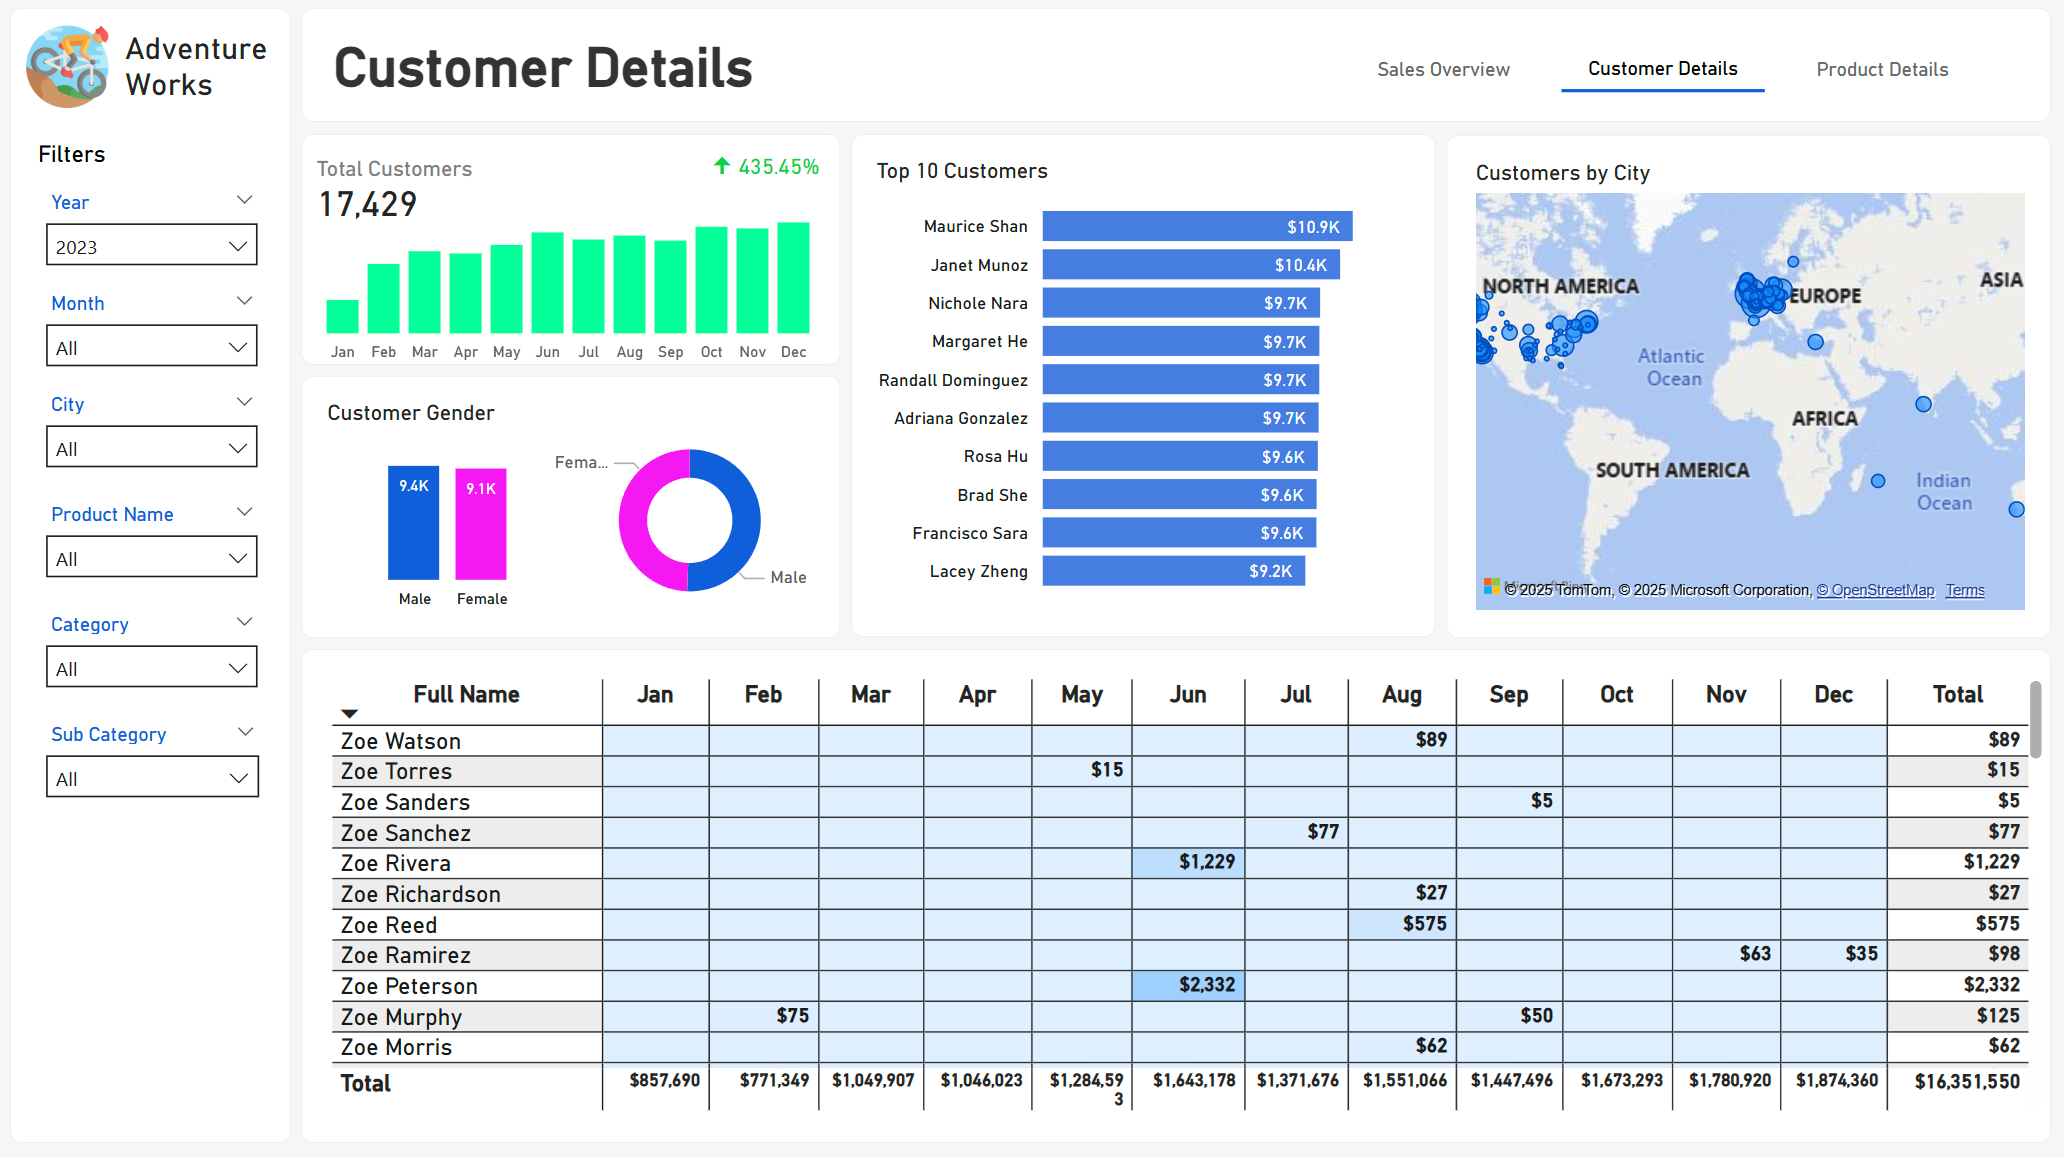

This screenshot's page, from the dashboard's own definition file:
{"tool":"powerbi","page":{"name":"Customer Details ","canvas":[1280,720],"ordinal":1},"visuals":[{"type":"BBED0A4D4D8D44CE93CF2DAFADEE466C","fields":{"actual":["FACT_InternetSales_CSV.Sales"],"target1":["FACT_Budget.Budget Amount"],"target2":["FACT_Budget.Sales - Budget"]},"box":[554.9,231.2,12.3,12.3],"z":0},{"type":"donutChart","title":"Customer Gender","fields":{"Y":["CountNonNull(DIM_Customers_CSV.Gender)"],"Category":["DIM_Customers_CSV.Gender"]},"box":[338.4,259.4,179.4,130.6],"z":2000},{"type":"pivotTable","title":"Customer Sales per Month","fields":{"Rows":["DIM_Customers_CSV.FullName"],"Columns":["DIM_Calendar_CSV.MonthShort"],"Values":["Sum(FACT_InternetSales_CSV.SalesAmount)"]},"box":[194.5,411.3,1072.1,294.9],"z":3000},{"type":"cardVisual","fields":{"Data":["Count(FACT_InternetSales_CSV.CustomerKey)"]},"box":[187.7,77.4,150.3,84.5],"z":4000},{"type":"columnChart","fields":{"Category":["DIM_Calendar_CSV.MonthShort"],"Y":["CountNonNull(FACT_InternetSales_CSV.CustomerKey)"]},"box":[187.7,120.1,330,113.9],"z":12000},{"type":"columnChart","title":"Customer Gender","fields":{"Category":["DIM_Customers_CSV.Gender"],"Y":["CountNonNull(DIM_Customers_CSV.CustomerKey)"]},"box":[194.5,241.6,165.2,150.1],"z":13000},{"type":"pageNavigator","box":[832.3,26.6,400.6,33.8],"z":14000},{"type":"textbox","box":[202.8,19.6,450.1,48],"z":15000},{"type":"map","title":"Customers by City","fields":{"Category":["DIM_Customers_CSV.CustomerCity"],"Size":["CountNonNull(DIM_Customers_CSV.CustomerKey)"]},"box":[910,102.3,350.5,282.9],"z":16000},{"type":"barChart","title":"Top 10 Customers","fields":{"Category":["DIM_Customers_CSV.FullName"],"Y":["Sum(FACT_InternetSales_CSV.SalesAmount)"]},"box":[534.6,91.6,347.8,293.5],"z":17000},{"type":"cardVisual","fields":{"Data":["Key Measures.Diff Last Year Customers %"]},"box":[312.2,86.3,196.6,33.8],"z":17001},{"type":"slicer","fields":{"Values":["DIM_Customers_CSV.CustomerCity"]},"box":[19,241.1,151,60],"z":17002},{"type":"slicer","fields":{"Values":["DIM_Products_CSV.SubCategory"]},"box":[19,445.7,151.5,60],"z":17003},{"type":"slicer","fields":{"Values":["DIM_Products_CSV.ProductCategory"]},"box":[19,377.5,151,60],"z":17004},{"type":"slicer","fields":{"Values":["DIM_Products_CSV.ProductName"]},"box":[19,309.3,151,60],"z":17005},{"type":"slicer","fields":{"Values":["DIM_Calendar_CSV.MonthShort"]},"box":[19,178.5,151,54.5],"z":17006},{"type":"textbox","box":[19,83.5,133.4,31.6],"z":17007},{"type":"slicer","fields":{"Values":["Years.Year"]},"box":[19,115.8,151,54.5],"z":17008},{"type":"image","box":[11.5,12.4,61.3,62.2],"z":17009},{"type":"textbox","box":[72.8,16,108.4,55.1],"z":17010}]}

Visuals, with their boxes in screenshot pixels (x1, y1, x2, y2), scaled from the page's 1280x720 canvas onto the 2064x1157 screenshot:
BBED0A4D4D8D44CE93CF2DAFADEE466C - FACT_InternetSales_CSV.Sales x FACT_Budget.Budget Amount: 895:372:915:391
"Customer Gender" donutChart: 546:417:835:627
"Customer Sales per Month" pivotTable: 314:661:2042:1135
cardVisual - Count(FACT_InternetSales_CSV.CustomerKey): 303:124:545:260
columnChart - DIM_Calendar_CSV.MonthShort x CountNonNull(FACT_InternetSales_CSV.CustomerKey): 303:193:835:376
"Customer Gender" columnChart: 314:388:580:629
pageNavigator: 1342:43:1988:97
textbox: 327:31:1053:109
"Customers by City" map: 1467:164:2033:619
"Top 10 Customers" barChart: 862:147:1423:619
cardVisual - Key Measures.Diff Last Year Customers %: 503:139:820:193
slicer - DIM_Customers_CSV.CustomerCity: 31:387:274:484
slicer - DIM_Products_CSV.SubCategory: 31:716:275:813
slicer - DIM_Products_CSV.ProductCategory: 31:607:274:703
slicer - DIM_Products_CSV.ProductName: 31:497:274:593
slicer - DIM_Calendar_CSV.MonthShort: 31:287:274:374
textbox: 31:134:246:185
slicer - Years.Year: 31:186:274:274
image: 19:20:117:120
textbox: 117:26:292:114
